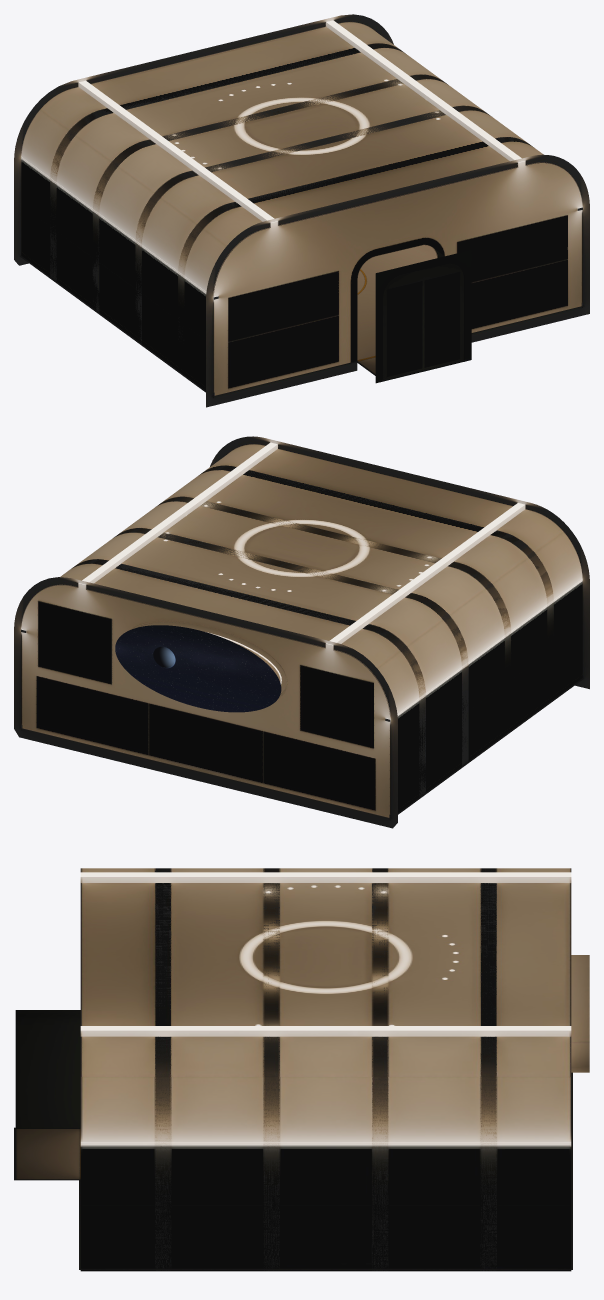
Rendered from earth_archive.glb.
The picture shows the model from 3 angles, top to bottom: view 1: azimuth 30°, elevation 25°; view 2: azimuth 150°, elevation 25°; view 3: azimuth 270°, elevation 25°; orthographic projection. The views are drawn at different scales.
Visible parts, largest first — view 1: structure_shell, structure_walls, floor; view 2: structure_shell, structure_walls, aperture, floor; view 3: structure_shell, structure_walls, floor.
Part boxes in pixels (<box>): structure_shell: <box>21,20,582,397</box>; structure_walls: <box>14,14,589,407</box>; floor: <box>20,245,584,397</box>; structure_shell: <box>21,442,582,819</box>; structure_walls: <box>14,436,589,828</box>; aperture: <box>115,625,281,712</box>; floor: <box>19,678,583,819</box>; structure_shell: <box>80,868,571,1271</box>; structure_walls: <box>15,955,589,1205</box>; floor: <box>14,1072,572,1269</box>.
Bounding box in the file's own units: 10.4 × 4.45 × 10.61.
5 materials, 5 textured.
